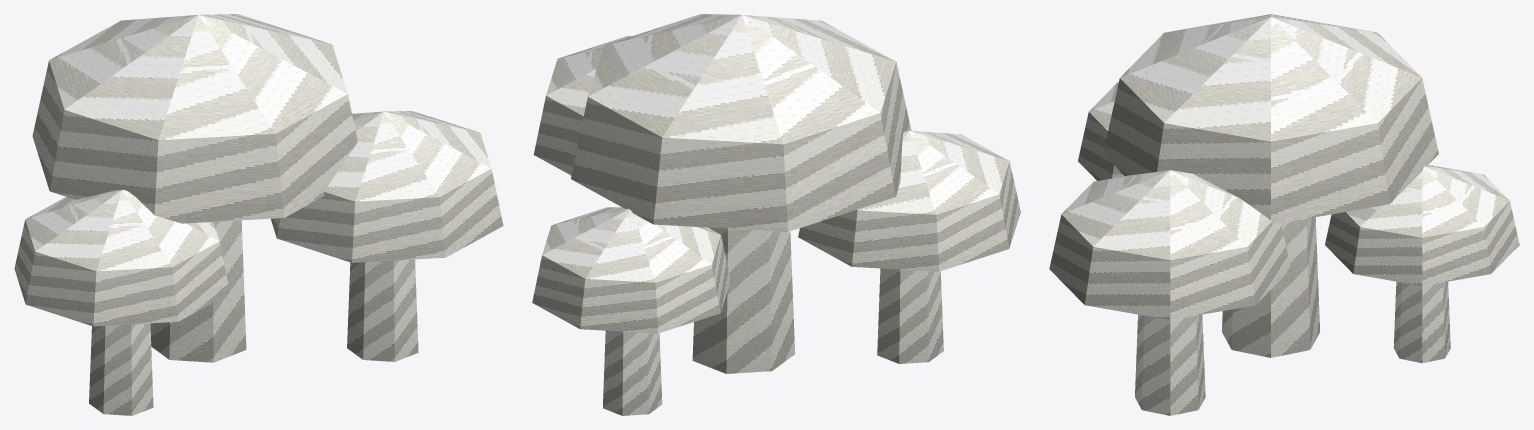
The model's file is cogumelo_palido.glb.
The picture shows the model from 3 angles, left to right: view 1: azimuth 30°, elevation 25°; view 2: azimuth 150°, elevation 25°; view 3: azimuth 270°, elevation 25°; orthographic projection. The views are drawn at different scales.
Parts seen in each view (by area): view 1: cogumelo_palido; view 2: cogumelo_palido; view 3: cogumelo_palido.
Boxes of the visible parts, <box> form: cogumelo_palido: <box>14,14,503,415</box>; cogumelo_palido: <box>532,14,1020,415</box>; cogumelo_palido: <box>1049,14,1519,415</box>.
Size of the model in its own units: 0.5833 by 0.399 by 0.532.
1 material, 1 textured.
